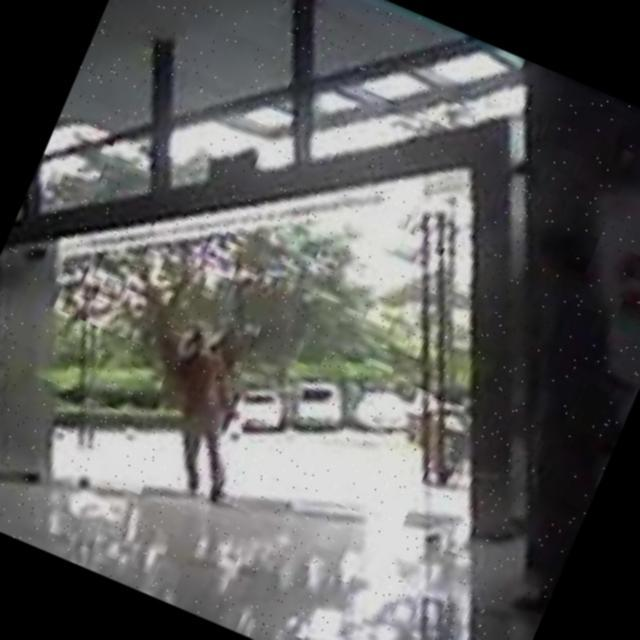person: (401, 218, 640, 608), (122, 322, 282, 510)
